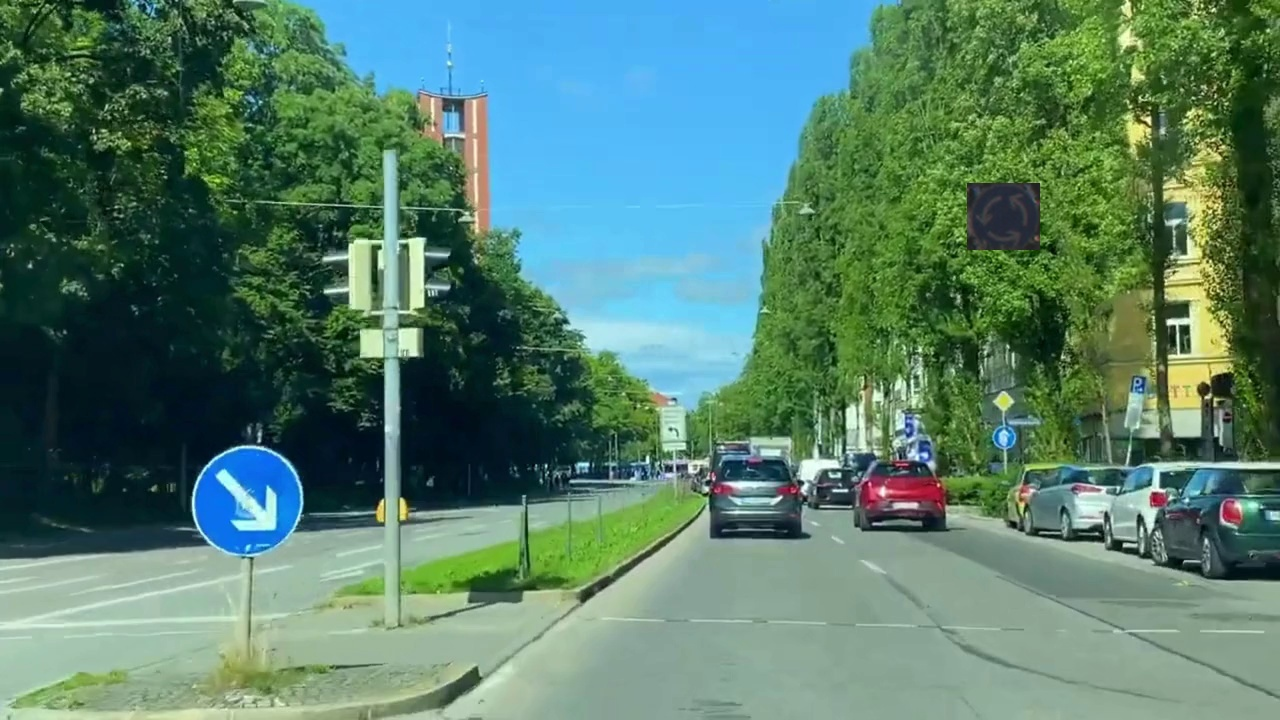Roundabout: (967, 183, 1040, 250)
